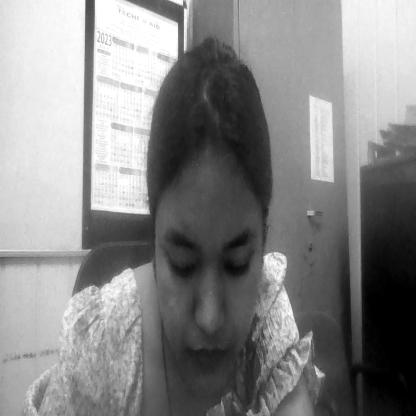Normal: (160, 132, 258, 378)
